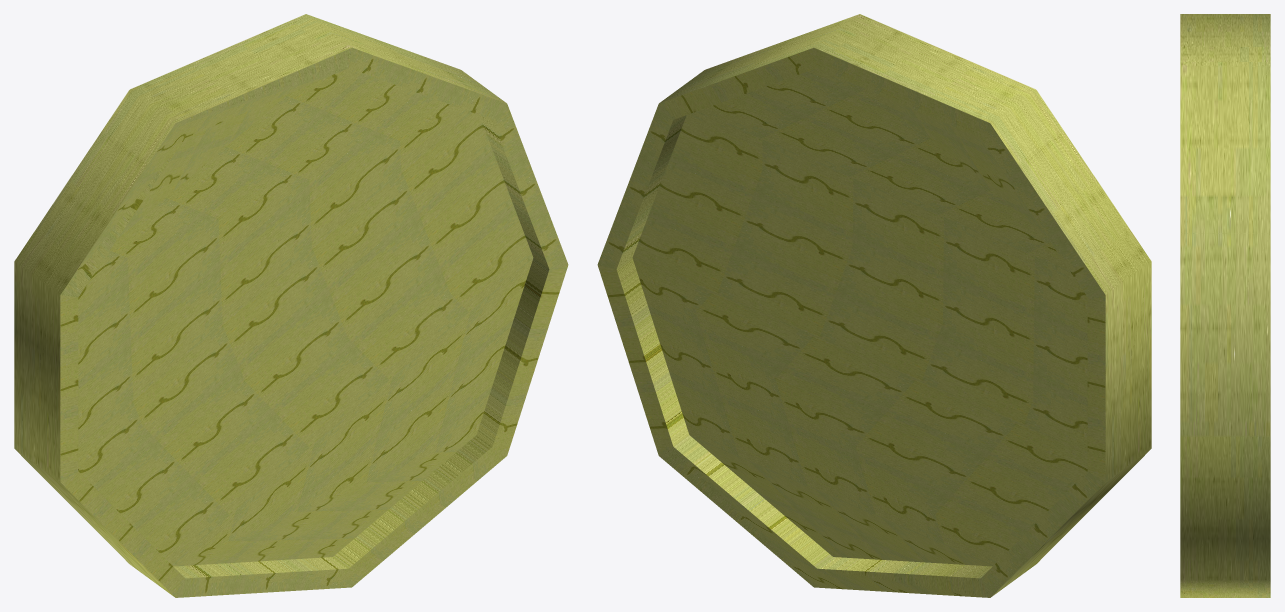
The model's file is Art_money.fbx.
3 views of the same model, side by side, from view 1: azimuth 30°, elevation 25°; view 2: azimuth 150°, elevation 25°; view 3: azimuth 270°, elevation 25° (orthographic).
Visible parts, largest first — view 1: Cylinder; view 2: Cylinder; view 3: Cylinder.
Part boxes in pixels (box(x1,y1,x2,y2)): Cylinder: box(14, 14, 568, 597); Cylinder: box(597, 14, 1151, 597); Cylinder: box(1180, 14, 1270, 597).
Size of the model in its own units: 42.61 by 43.27 by 6.68.
Materials: 2 (2 with a texture image).
